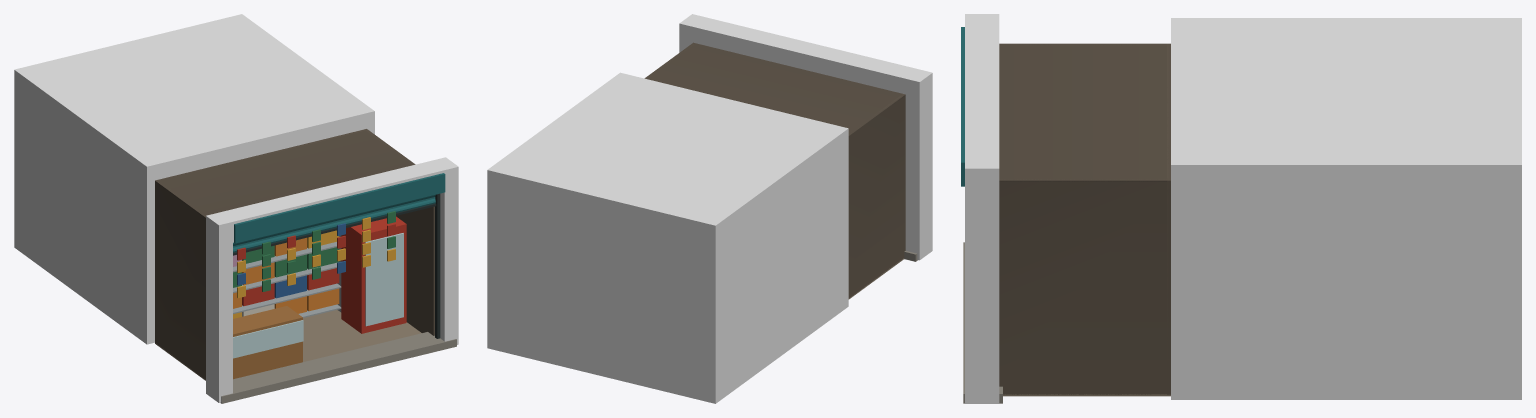
File: tret_tap_hoa_48.glb
3 renders of one model, left to right at view 1: azimuth 30°, elevation 25°; view 2: azimuth 150°, elevation 25°; view 3: azimuth 270°, elevation 25°, orthographic. The views are drawn at different scales.
Parts seen in each view (by area): view 1: tret_tap_hoa_48; view 2: tret_tap_hoa_48; view 3: tret_tap_hoa_48.
Boxes of the visible parts, x1=… form: tret_tap_hoa_48: x1=14, y1=14, x2=458, y2=403; tret_tap_hoa_48: x1=487, y1=14, x2=932, y2=403; tret_tap_hoa_48: x1=961, y1=14, x2=1521, y2=403.
Bounding box in the file's own units: 4.8 × 3.42 × 7.35.
